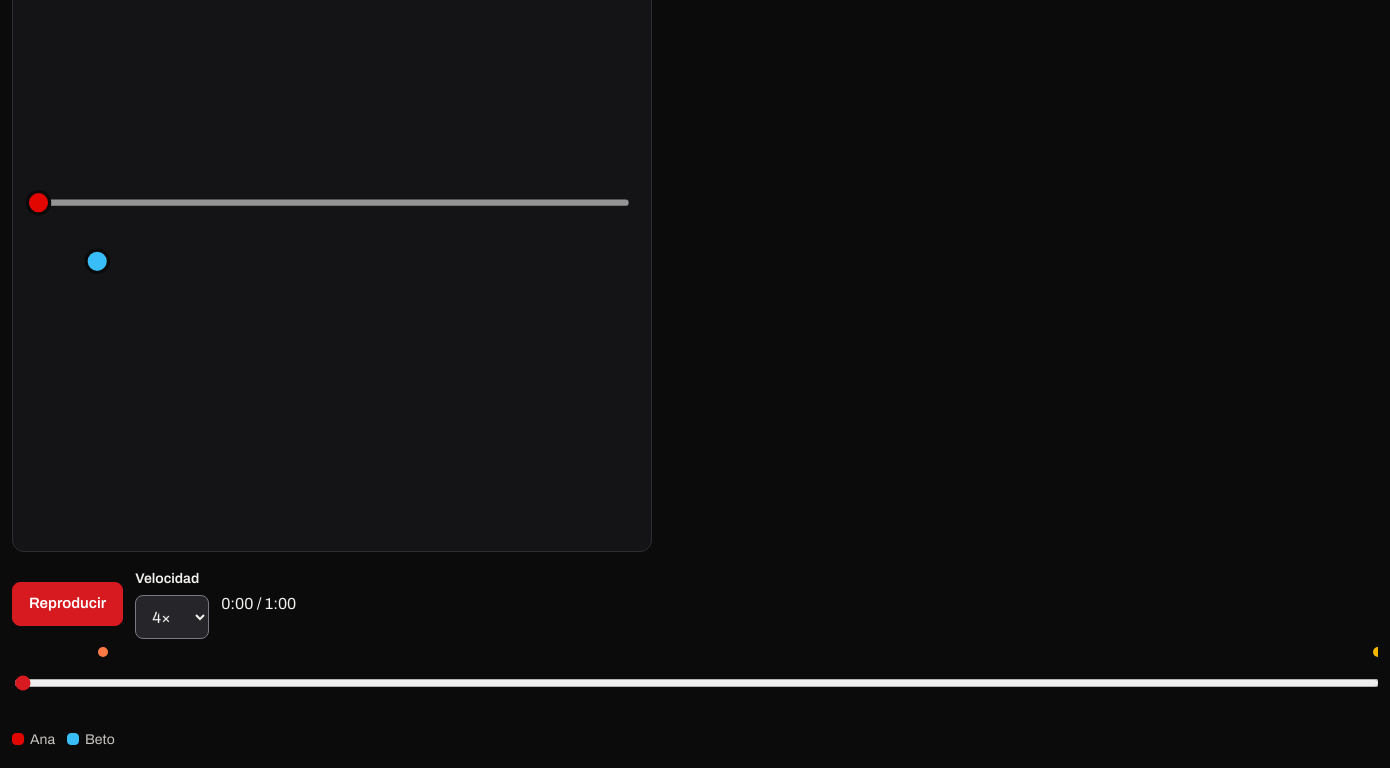
Test: ReplaySection › jumps to a marker and lists the cars without data
The width and height of the screenshot is (1390, 768).
(page scrolled)
Check: the button "Reproducir" is shown, box left=12, top=582, right=123, bottom=626
Click the button named "Incidente: Ana + Beto": (103,652) left=98, top=647, right=108, bottom=657
(page scrolled)
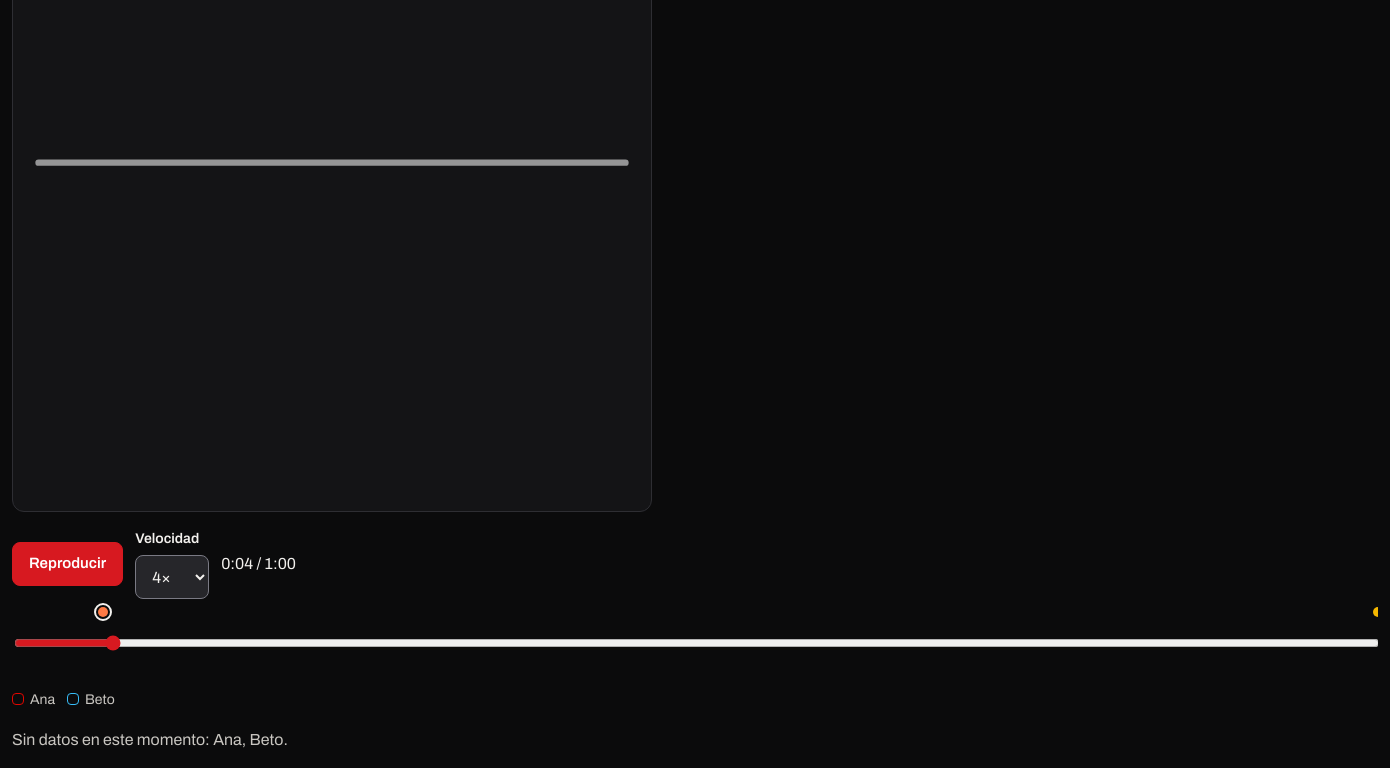
Check: the text "Sin datos en este momento: Ana, Beto." is shown, box left=12, top=731, right=288, bottom=748
